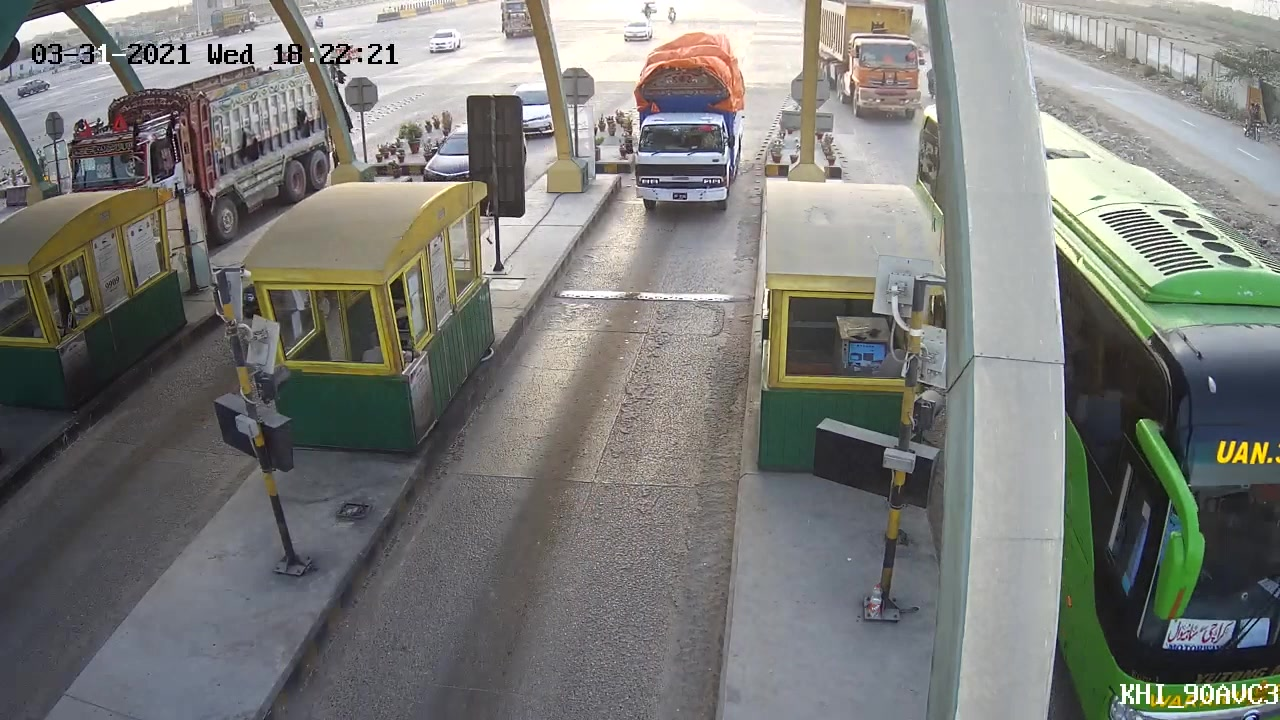F5: (617, 32, 752, 222)
